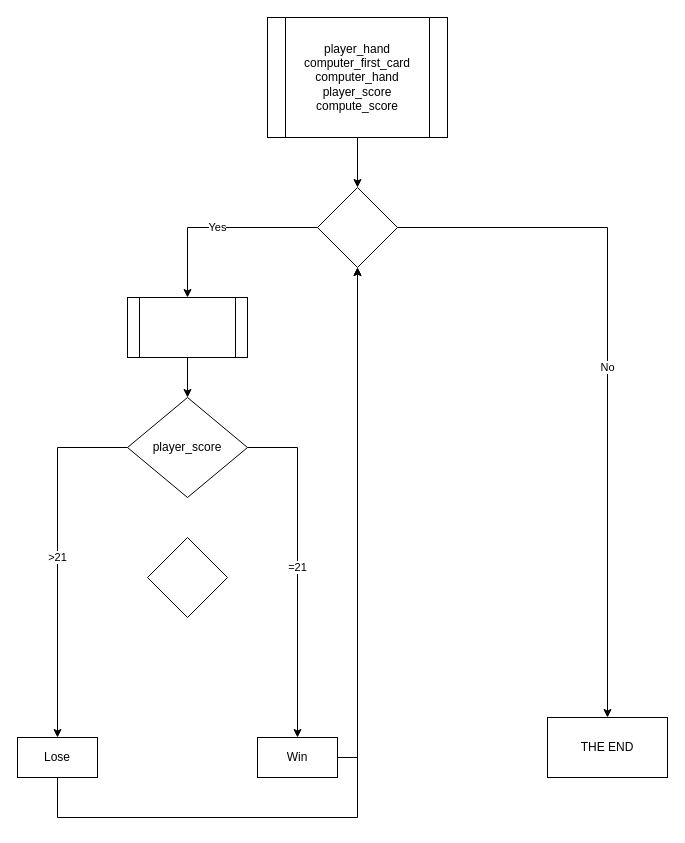
This 685x843 diagram has some shape labels left out. The centre of each missing label's shape, as x and y in pixels:
Continue?: [187,577]
Play?: [357,227]
Print scores: [187,327]
